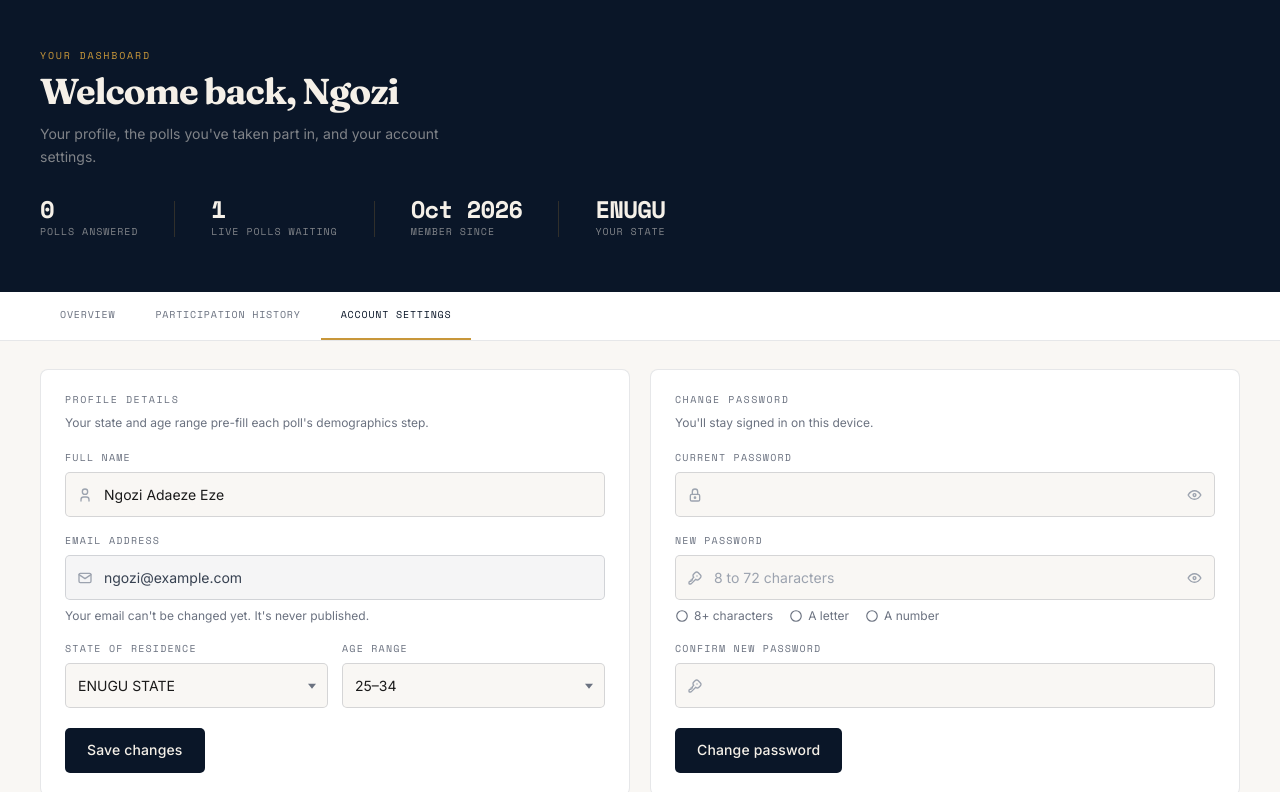
Scenario: profile details › sends only what changed, with the CSRF header, and updates the greeting
Expected: the form named "Profile details" is shown, [65,450,605,773]
Expected: the field labelled "Email address" holds "ngozi@example.com", [65,555,605,600]
Click the button "Save changes": coordinates (135, 751) [65,728,204,773]
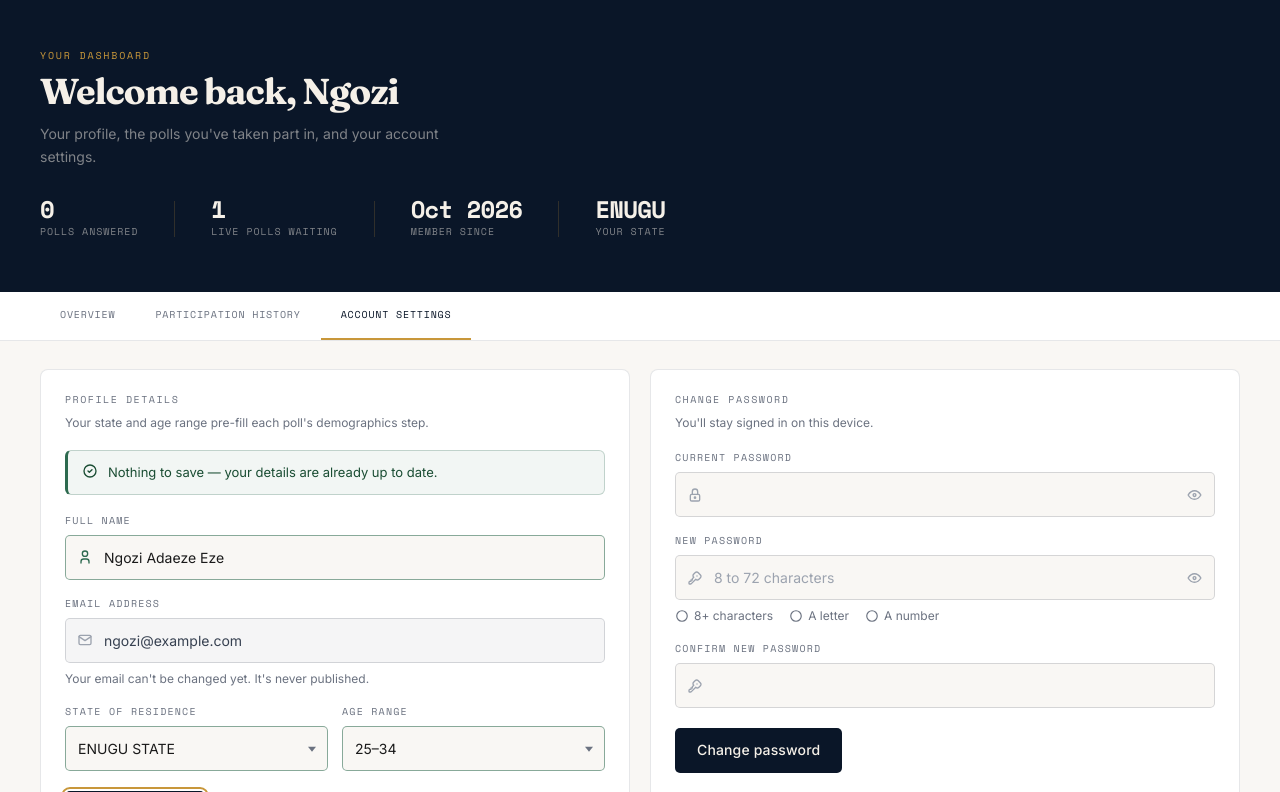
Expected: the text "Nothing to save — your details are already up to date." is shown, [108,462,438,483]
Replace the text in the field labelled "Full name" with "  Amaka   Obi ": coordinates (335, 558) [65,535,605,580]
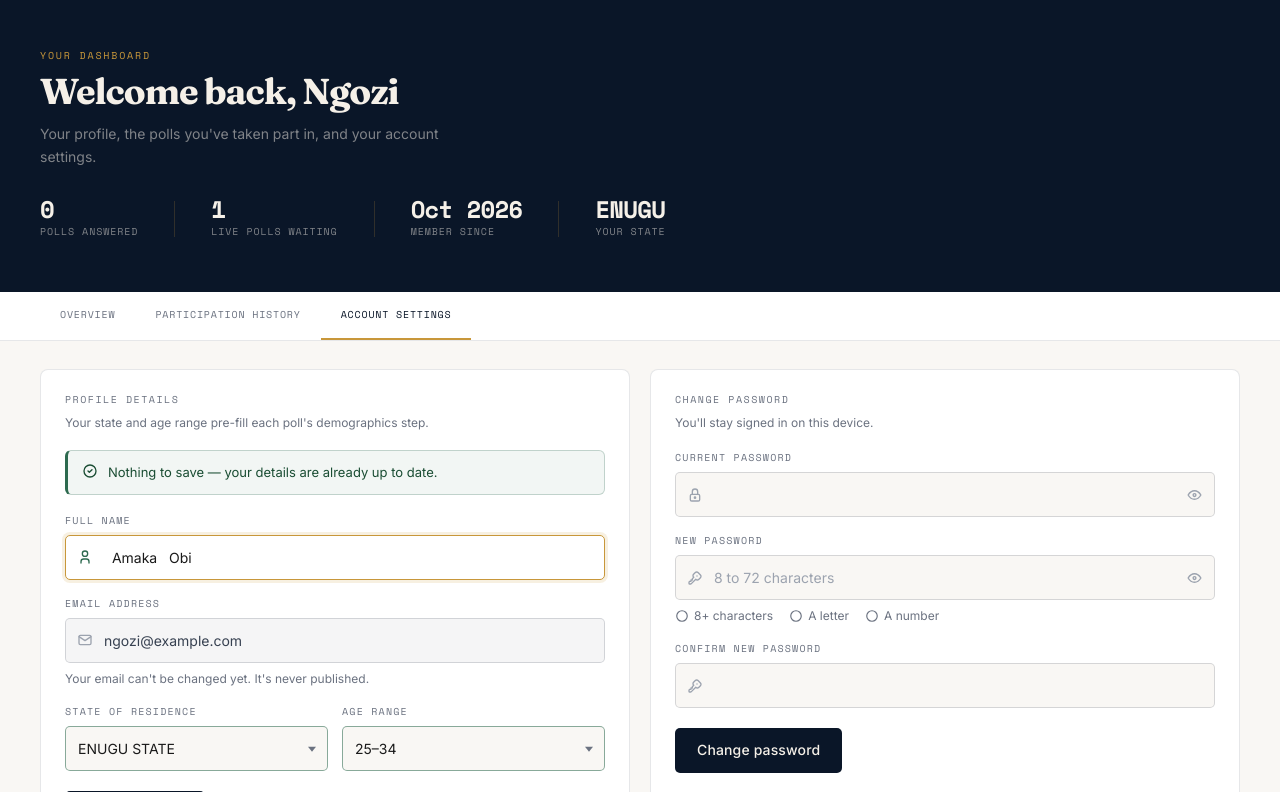
Select "KANO STATE" in the dropdown labelled "State of residence": coordinates (196, 749) [65,726,328,771]
(page scrolled)
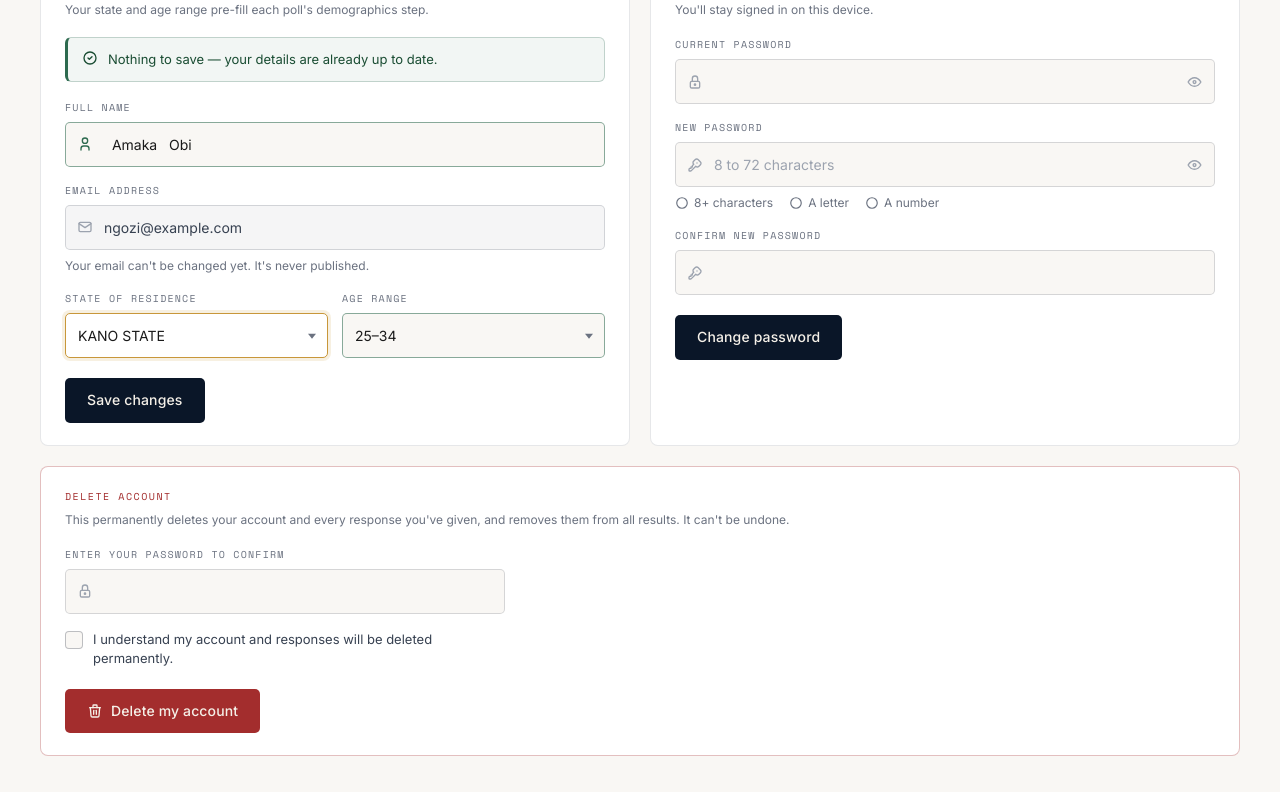
Click the button "Save changes": coordinates (135, 400) [65,378,204,423]
(page scrolled)
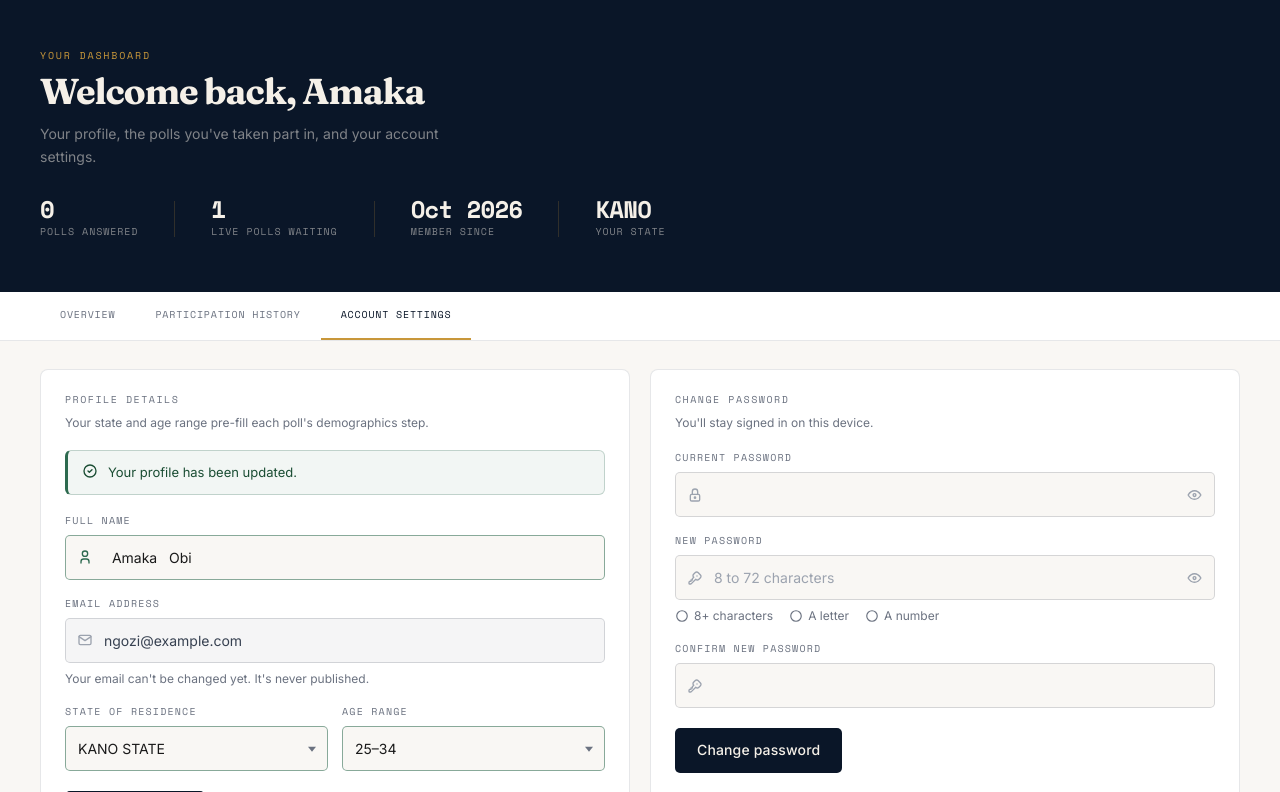
Expected: the text "Your profile has been updated." is shown, [108,462,297,483]
Expected: the heading "Welcome back, Amaka" is shown, [40,69,424,113]
